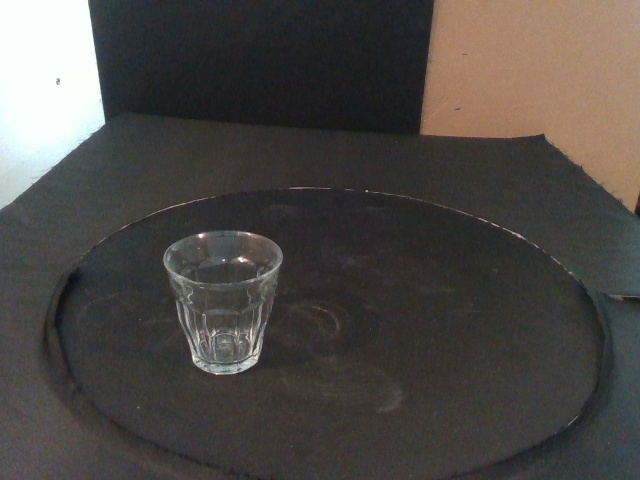glass: (162, 229, 284, 374)
